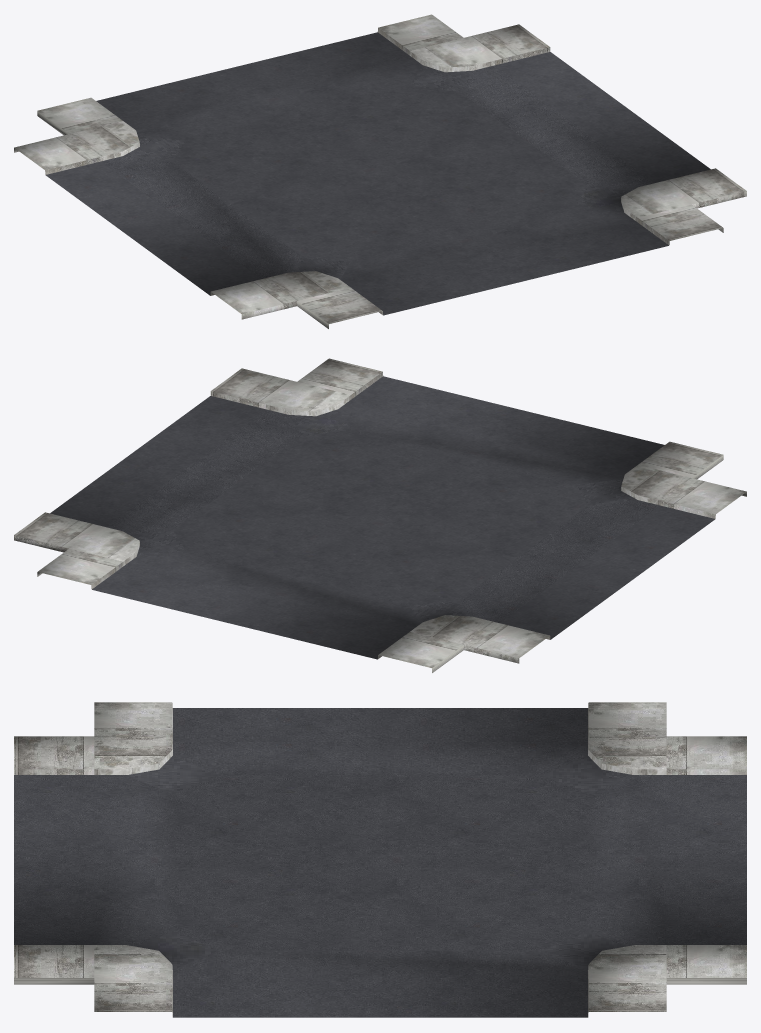
Rendered from incrocio_grande_bianco.glb.
The picture shows the model from 3 angles, top to bottom: view 1: azimuth 30°, elevation 25°; view 2: azimuth 150°, elevation 25°; view 3: azimuth 270°, elevation 25°; orthographic projection. The views are drawn at different scales.
Visible parts, largest first — view 1: road.068; view 2: road.068; view 3: road.068.
Boxes of the visible parts, x1,y1,x2,y2 form: road.068: [14, 14, 746, 328]; road.068: [14, 358, 746, 672]; road.068: [14, 702, 746, 1017].
Size of the model in its own units: 7.13 by 0.0716 by 7.13.
Materials: 2 (2 with a texture image).
